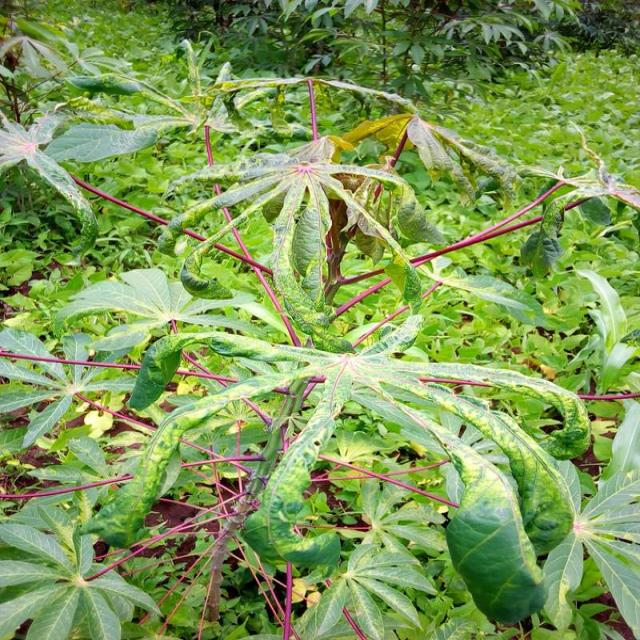cassava leaf: (4, 34, 638, 638), (445, 441, 549, 624)
